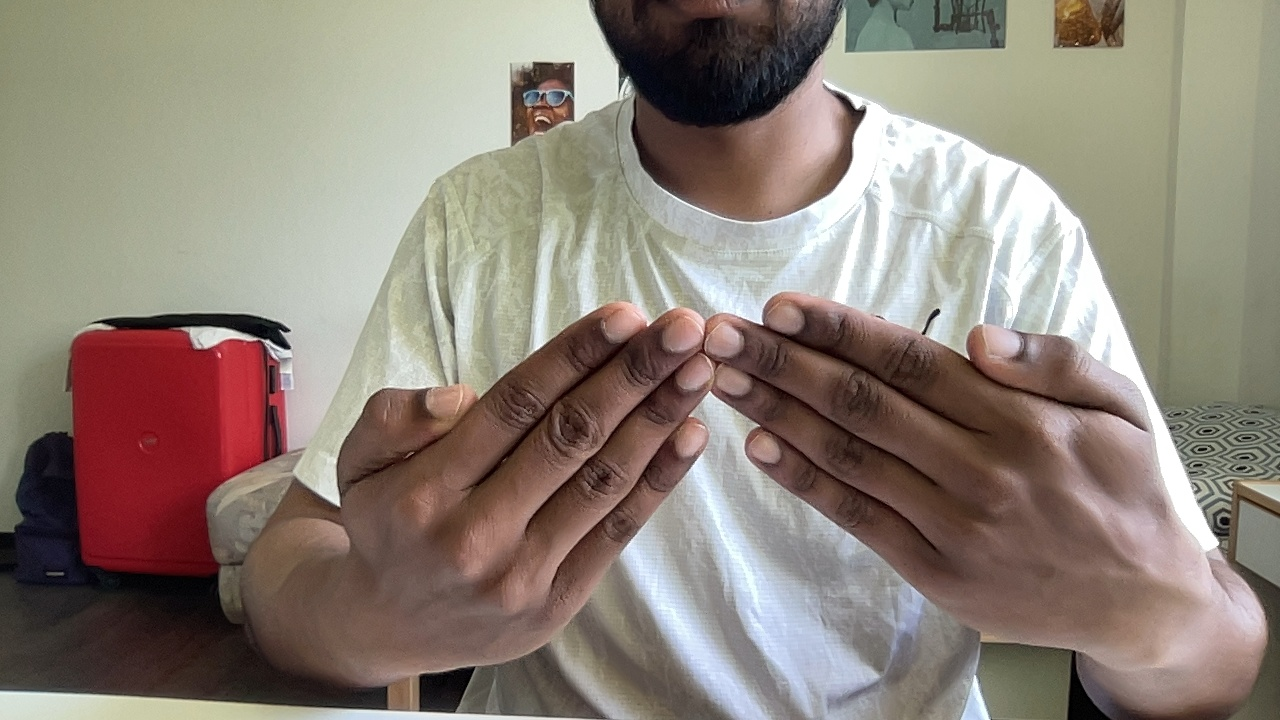ThankYou: (334, 290, 1158, 675)
